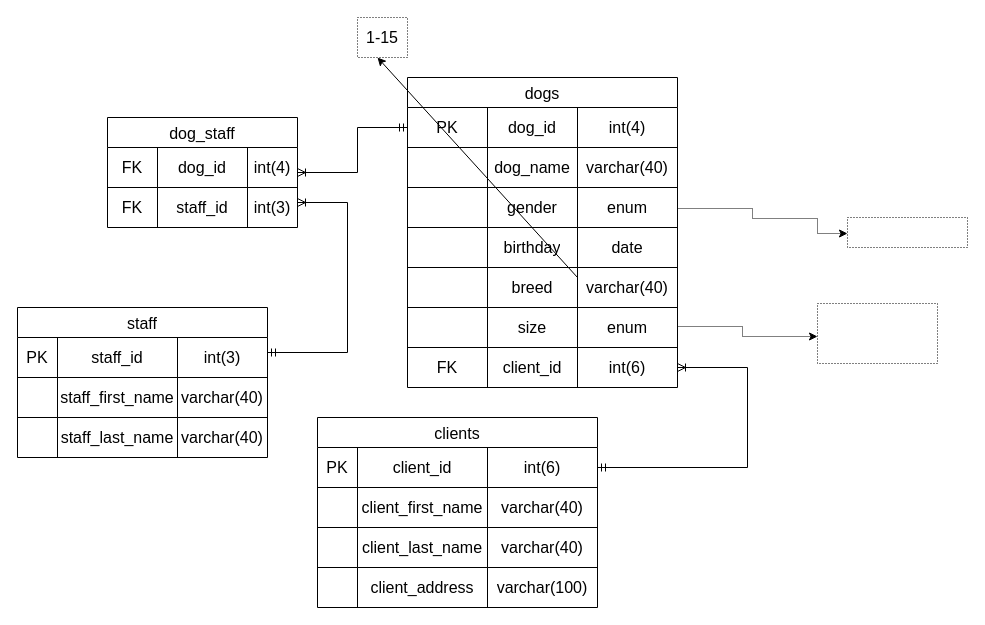
Image size: 985x625. Some labels were removed from this diagram. Here are the shapes that lost their labels. From the top down, the centre of each, then its label:
At (907,232): "Male, Female".
At (877,333): "Toy, Small, Medium, Large".
